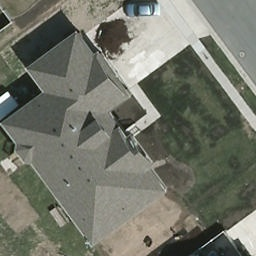camping car: (0, 89, 23, 126)
car: (124, 3, 160, 16)
